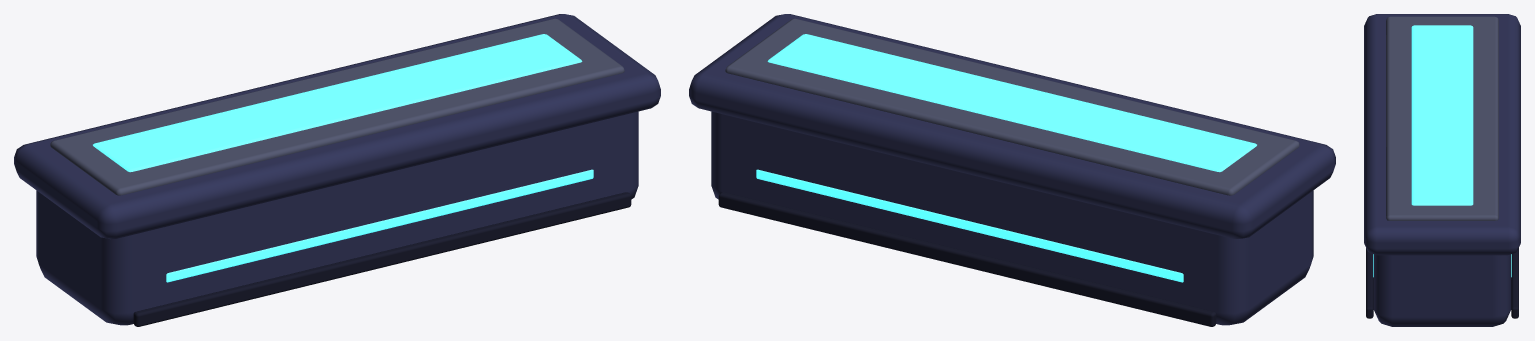
The model's file is int.doorbeam.emit_a.l1.glb.
The picture shows the model from 3 angles, left to right: view 1: azimuth 30°, elevation 25°; view 2: azimuth 150°, elevation 25°; view 3: azimuth 270°, elevation 25°; orthographic projection. The views are drawn at different scales.
Visible parts, largest first — view 1: int.doorbeam.emit_a.l1; view 2: int.doorbeam.emit_a.l1; view 3: int.doorbeam.emit_a.l1.
Part boxes in pixels (left/top/right/bottom): int.doorbeam.emit_a.l1: left=14, top=14, right=660, bottom=326; int.doorbeam.emit_a.l1: left=689, top=14, right=1335, bottom=326; int.doorbeam.emit_a.l1: left=1364, top=14, right=1520, bottom=326.
Bounding box in the file's own units: 0.84 × 0.201 × 0.25.
